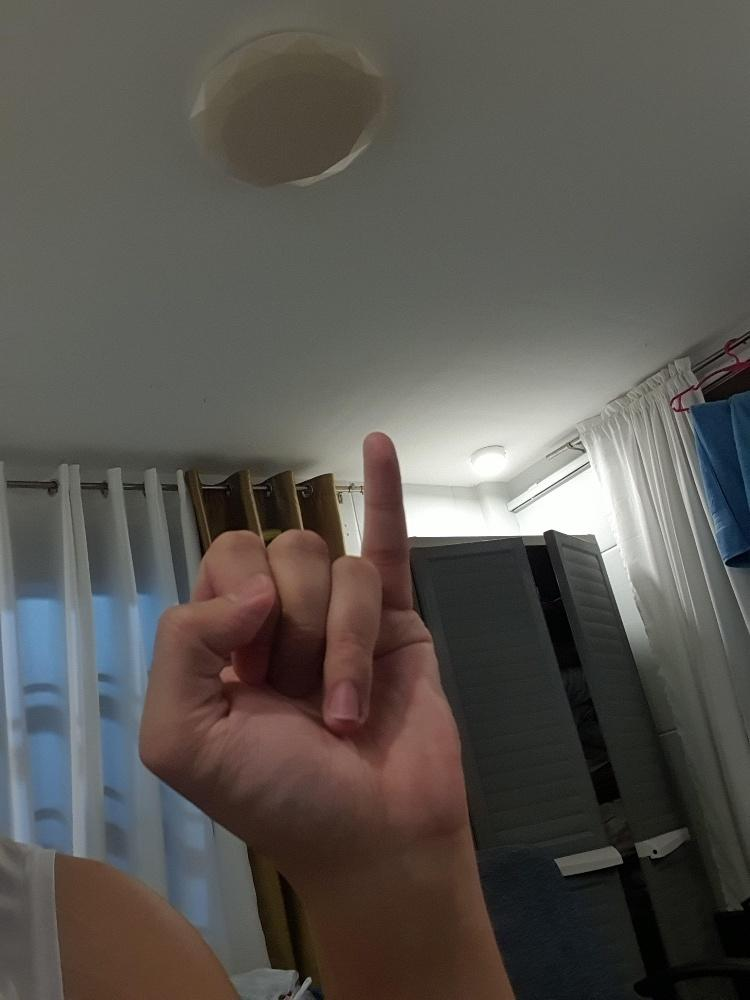i: (136, 429, 471, 870)
